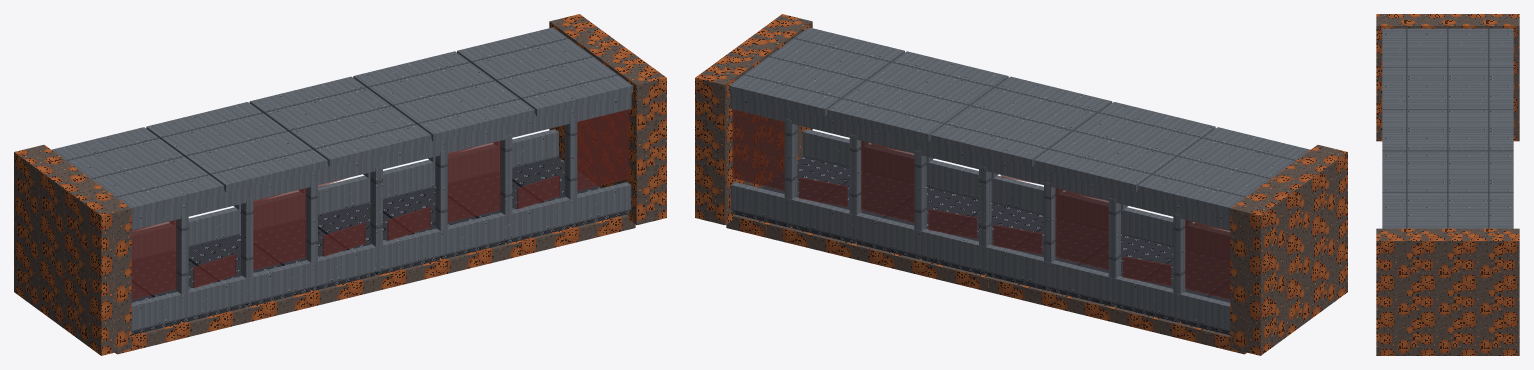
File: bridge.obj
3 renders of one model, left to right at view 1: azimuth 30°, elevation 25°; view 2: azimuth 150°, elevation 25°; view 3: azimuth 270°, elevation 25°, orthographic. The views are drawn at different scales.
Visible parts, largest first — view 1: Abut_L, Sill_L, Abut_R, Sill_R, Roof_2, Roof_1, Roof_3, Roof_4, Roof_0, Header_L, Girder_0, Window_L_2 (+21 smaller); view 2: Abut_L, Sill_R, Abut_R, Sill_L, Roof_2, Roof_1, Roof_3, Roof_4, Roof_0, Header_R, Girder_1, Window_R_2 (+21 smaller); view 3: Abut_R, Roof_2, Roof_1, Roof_3, Roof_0, Roof_4, Abut_L.
Boxes of the visible parts, x1,y1,x2,y2 form: Abut_L: [14, 145, 131, 355]; Sill_L: [131, 182, 631, 331]; Abut_R: [549, 14, 666, 224]; Sill_R: [132, 129, 558, 260]; Roof_2: [249, 76, 431, 166]; Roof_1: [146, 102, 327, 191]; Roof_3: [353, 51, 534, 141]; Roof_4: [457, 27, 632, 116]; Roof_0: [51, 127, 223, 214]; Header_L: [131, 93, 631, 230]; Girder_0: [115, 214, 635, 354]; Window_L_2: [253, 188, 306, 269]; Abut_L: [1230, 145, 1347, 355]; Sill_R: [730, 182, 1230, 331]; Abut_R: [695, 14, 812, 224]; Sill_L: [803, 129, 1229, 260]; Roof_2: [930, 76, 1112, 166]; Roof_1: [1034, 102, 1215, 191]; Roof_3: [827, 51, 1008, 141]; Roof_4: [729, 27, 904, 116]; Roof_0: [1138, 127, 1310, 214]; Header_R: [730, 93, 1230, 230]; Girder_1: [726, 214, 1246, 354]; Window_R_2: [1055, 188, 1108, 269]; Abut_R: [1376, 228, 1519, 355]; Roof_2: [1382, 109, 1513, 151]; Roof_1: [1382, 68, 1513, 109]; Roof_3: [1382, 151, 1513, 192]; Roof_0: [1382, 28, 1513, 67]; Roof_4: [1382, 192, 1513, 228]; Abut_L: [1376, 14, 1519, 141].
Bounding box in the file's own units: 13.1 × 3.73 × 3.5.
Materials: 5 (3 with a texture image).
